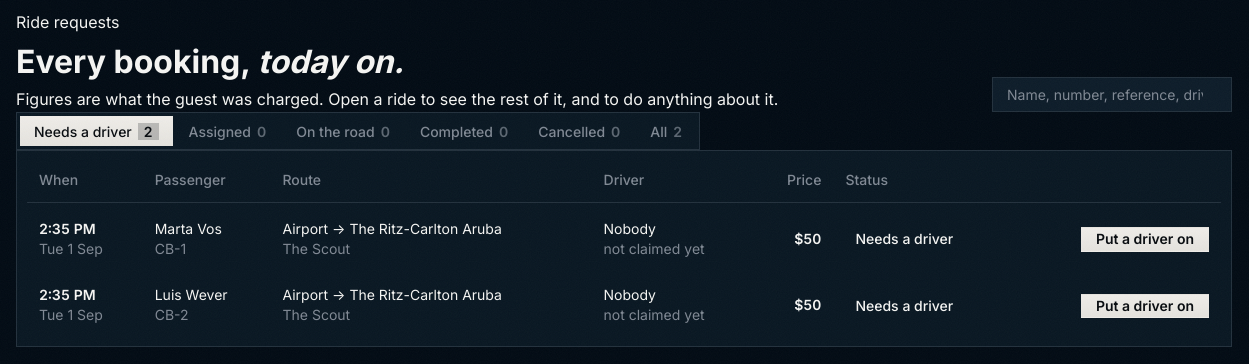
Scenario: Ride requests › searches the things an operator actually has in their hand
The width and height of the screenshot is (1249, 364).
Type "CB-2" into the search field at (1112, 95), box [992,77,1232,112]
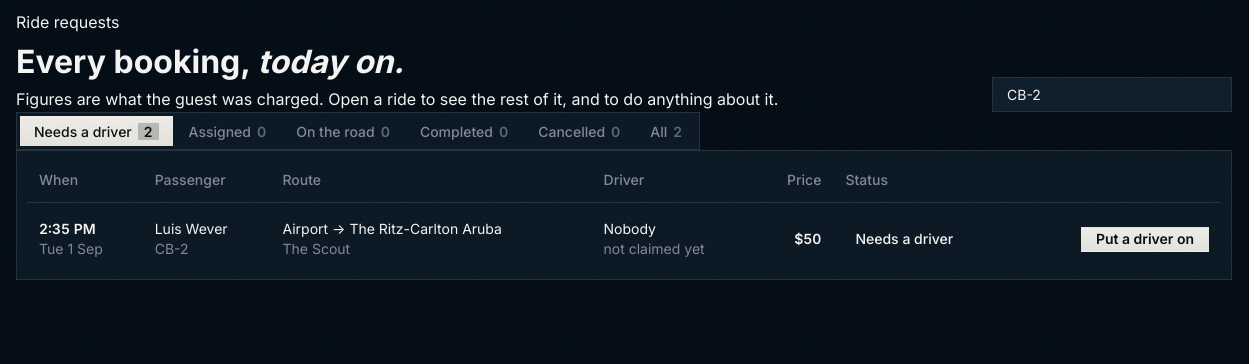
Expected: the link "Luis Wever" is shown, [155,220,228,237]
Expected: the link "Marta Vos" is gone
